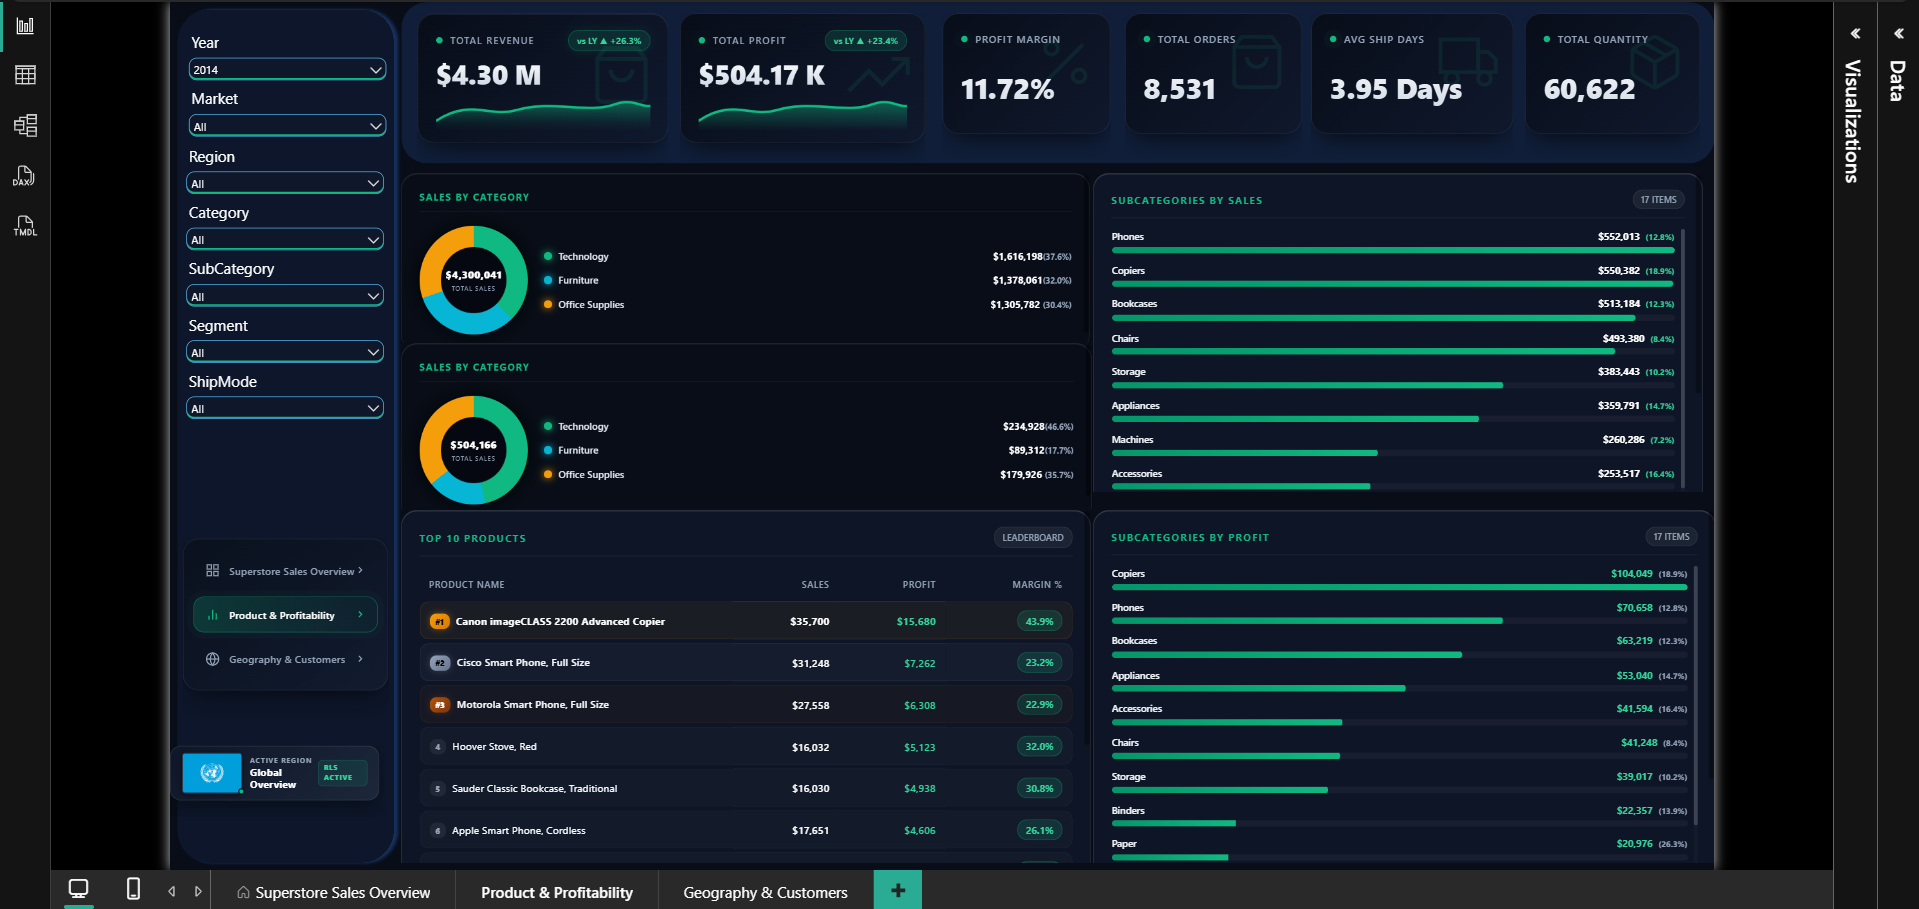

Layout of this report page (visuals, bound fields, positions):
{"tool":"powerbi","page":{"name":"Product & Profitability","canvas":[1920,1080],"ordinal":1},"visuals":[{"type":"shape","box":[0,0,288,1079.9],"z":0},{"type":"slicer","fields":{"Values":["dw DimDate.Year"]},"box":[18,37.8,255.6,70.2],"z":1000},{"type":"slicer","fields":{"Values":["dw DimGeography.Market"]},"box":[18,108,255.6,70.2],"z":2000},{"type":"slicer","fields":{"Values":["dw DimGeography.Region"]},"box":[16.2,178.2,255.6,70.2],"z":3000},{"type":"slicer","fields":{"Values":["dw DimProduct.Category"]},"box":[16.2,248.4,255.6,70.2],"z":4000},{"type":"slicer","fields":{"Values":["dw DimProduct.SubCategory"]},"box":[16.2,318.6,255.6,70.2],"z":5000},{"type":"slicer","fields":{"Values":["dw DimCustomer.Segment"]},"box":[16.2,388.8,255.6,70.2],"z":6000},{"type":"slicer","fields":{"Values":["dw DimShipping.ShipMode"]},"box":[16.2,458.9,255.6,66.6],"z":7000},{"type":"pageNavigator","box":[17,590.4,253.5,238.2],"z":8000},{"type":"cardVisual","fields":{"Data":["dw FactSales.Total Sales"]},"box":[304.4,14.4,291.8,187.3],"z":9000},{"type":"cardVisual","fields":{"Data":["dw FactSales.Total Profit"]},"box":[623.2,14.4,291.8,187.3],"z":10000},{"type":"cardVisual","fields":{"Data":["dw FactSales.Profit Margin %"]},"box":[943.8,14.4,291.8,187.3],"z":11000},{"type":"cardVisual","fields":{"Data":["dw FactSales.Orders"]},"box":[1266.2,14.4,291.8,187.3],"z":12000},{"type":"cardVisual","fields":{"Data":["dw FactSales.Total Quantity"]},"box":[1594,14.4,291.8,187.3],"z":13000},{"type":"lineChart","fields":{"Y":["dw FactSales.Total Sales"],"Category":["dw DimDate.Month"]},"box":[270.2,108.1,326,79.2],"z":14000},{"type":"lineChart","fields":{"Y":["dw FactSales.Total Profit"],"Category":["dw DimDate.Month"]},"box":[596.5,104.7,315.2,79.2],"z":15000},{"type":"donutChart","title":"Sales By Category","fields":{"Category":["dw DimProduct.Category"],"Y":["dw FactSales.Total Sales"]},"box":[287.8,198.8,734.3,259.9],"z":16000},{"type":"donutChart","fields":{"Category":["dw DimProduct.Category"],"Y":["dw FactSales.Total Profit"]},"box":[1088.9,197.4,775.8,275.6],"z":17000},{"type":"barChart","fields":{"Category":["dw DimProduct.SubCategory"],"Y":["dw FactSales.Total Sales"]},"box":[287.8,458.7,774.4,251.2],"z":18000},{"type":"barChart","fields":{"Category":["dw DimProduct.SubCategory"],"Y":["dw FactSales.Total Profit"]},"box":[1089.7,459.3,774.5,246.8],"z":19000},{"type":"tableEx","title":"TOP 10 Products","fields":{"Values":["dw DimProduct.ProductName","Sum(dw FactSales.Sales)","Sum(dw FactSales.Profit)","dw FactSales.Profit Margin %"]},"box":[304.6,710.1,1580.8,370.5],"z":20000}]}

Visuals, with their boxes on the page's 1920x1080 design canvas (x1, y1, x2, y2). These are canvas units, not pixel positions in the 1919x909 screenshot, which may show the page scaled, cropped or inside an application window:
shape: box=[0, 0, 288, 1080]
slicer - dw DimDate.Year: box=[18, 38, 274, 108]
slicer - dw DimGeography.Market: box=[18, 108, 274, 178]
slicer - dw DimGeography.Region: box=[16, 178, 272, 248]
slicer - dw DimProduct.Category: box=[16, 248, 272, 319]
slicer - dw DimProduct.SubCategory: box=[16, 319, 272, 389]
slicer - dw DimCustomer.Segment: box=[16, 389, 272, 459]
slicer - dw DimShipping.ShipMode: box=[16, 459, 272, 526]
pageNavigator: box=[17, 590, 270, 829]
cardVisual - dw FactSales.Total Sales: box=[304, 14, 596, 202]
cardVisual - dw FactSales.Total Profit: box=[623, 14, 915, 202]
cardVisual - dw FactSales.Profit Margin %: box=[944, 14, 1236, 202]
cardVisual - dw FactSales.Orders: box=[1266, 14, 1558, 202]
cardVisual - dw FactSales.Total Quantity: box=[1594, 14, 1886, 202]
lineChart - dw FactSales.Total Sales x dw DimDate.Month: box=[270, 108, 596, 187]
lineChart - dw FactSales.Total Profit x dw DimDate.Month: box=[596, 105, 912, 184]
"Sales By Category" donutChart: box=[288, 199, 1022, 459]
donutChart - dw DimProduct.Category x dw FactSales.Total Profit: box=[1089, 197, 1865, 473]
barChart - dw DimProduct.SubCategory x dw FactSales.Total Sales: box=[288, 459, 1062, 710]
barChart - dw DimProduct.SubCategory x dw FactSales.Total Profit: box=[1090, 459, 1864, 706]
"TOP 10 Products" tableEx: box=[305, 710, 1885, 1081]
